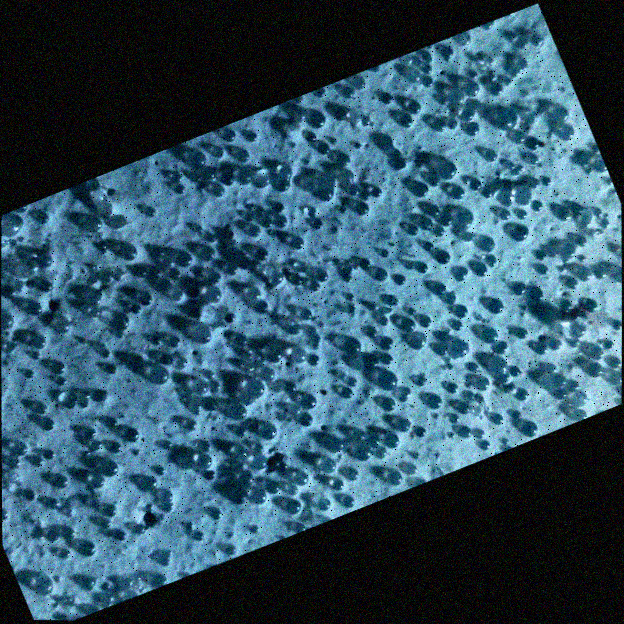GrassBeadSeg: (13, 152, 539, 585), (63, 112, 588, 537), (102, 82, 507, 519), (12, 175, 553, 455), (250, 108, 592, 533), (158, 108, 476, 564), (37, 224, 420, 594), (233, 93, 571, 504), (192, 79, 482, 540), (37, 160, 457, 478), (78, 182, 431, 556), (93, 132, 570, 401), (163, 136, 561, 444), (113, 157, 403, 539), (101, 206, 374, 590), (48, 171, 354, 506), (6, 183, 343, 482), (99, 332, 621, 523), (139, 236, 529, 490), (80, 208, 366, 553), (8, 230, 418, 468), (295, 203, 584, 531), (1, 122, 540, 297), (108, 249, 451, 512), (109, 174, 516, 392), (84, 215, 610, 379), (239, 188, 527, 485), (52, 185, 334, 488), (222, 128, 504, 428), (255, 177, 543, 465), (112, 313, 445, 561), (193, 287, 525, 535), (33, 312, 405, 533), (248, 147, 539, 426), (365, 32, 544, 458), (37, 108, 512, 268), (112, 174, 381, 444), (83, 353, 380, 587), (341, 108, 519, 497), (39, 279, 424, 458), (24, 316, 394, 500), (164, 231, 477, 447), (51, 135, 333, 373), (224, 344, 536, 555), (267, 298, 599, 493), (3, 219, 263, 467), (369, 126, 571, 442), (24, 189, 347, 383), (63, 395, 572, 516), (131, 387, 568, 527), (82, 224, 565, 350), (47, 307, 313, 535), (104, 132, 260, 516), (336, 152, 538, 436), (352, 63, 506, 434), (46, 270, 286, 507), (354, 141, 580, 391), (331, 149, 499, 484), (34, 365, 512, 478), (326, 81, 468, 451), (1, 130, 256, 333), (149, 246, 529, 382), (25, 193, 412, 325), (327, 267, 607, 447), (352, 75, 573, 303), (7, 263, 240, 474), (278, 113, 414, 473), (161, 209, 476, 364), (432, 130, 620, 384), (268, 268, 472, 493), (204, 231, 359, 527), (46, 340, 548, 430), (339, 205, 588, 383), (250, 282, 447, 502), (302, 115, 448, 409), (309, 111, 444, 408), (234, 161, 458, 339), (299, 302, 576, 438), (290, 206, 571, 340), (296, 157, 409, 483), (2, 334, 189, 519), (54, 394, 430, 485), (190, 282, 441, 418), (31, 442, 266, 585), (183, 201, 286, 518), (207, 204, 441, 342), (99, 286, 545, 357), (449, 208, 593, 424), (182, 219, 326, 430), (195, 217, 435, 343), (99, 431, 399, 529), (414, 189, 533, 436), (75, 337, 579, 395), (35, 362, 596, 414), (122, 242, 545, 310), (290, 174, 441, 362), (205, 345, 606, 410), (260, 326, 492, 438), (476, 192, 621, 371), (1, 214, 175, 363), (33, 409, 523, 460), (233, 364, 523, 450), (128, 460, 319, 582), (32, 332, 207, 465), (31, 377, 132, 604), (188, 152, 285, 362), (58, 286, 262, 385), (2, 175, 196, 277), (377, 185, 467, 389), (99, 392, 367, 459), (315, 269, 507, 359), (199, 247, 363, 352), (385, 190, 471, 389), (204, 286, 349, 400), (336, 327, 454, 460), (253, 172, 465, 240), (34, 288, 160, 395), (338, 169, 604, 218), (89, 355, 186, 488), (452, 198, 543, 329), (409, 35, 528, 133), (197, 317, 313, 414), (85, 389, 259, 453), (226, 274, 373, 347), (147, 143, 294, 214), (118, 277, 236, 365), (108, 440, 419, 473), (288, 293, 537, 334), (410, 85, 567, 148), (99, 421, 274, 476), (227, 130, 316, 238), (196, 289, 247, 467), (259, 214, 291, 487), (353, 307, 418, 441), (355, 201, 416, 332), (334, 106, 435, 185), (202, 167, 541, 189), (537, 246, 608, 348), (262, 325, 390, 379), (419, 291, 474, 416), (551, 146, 613, 255), (415, 329, 489, 418), (30, 333, 428, 349), (361, 178, 492, 224), (508, 105, 594, 175), (386, 45, 490, 102), (345, 292, 542, 322), (29, 342, 173, 383), (360, 185, 427, 271), (48, 495, 172, 541), (294, 85, 392, 140), (345, 183, 433, 244), (41, 416, 411, 430), (573, 207, 599, 405), (477, 224, 530, 312), (422, 244, 528, 288), (559, 218, 621, 289), (417, 223, 449, 355), (320, 443, 493, 467), (291, 371, 397, 409), (141, 475, 345, 491), (457, 30, 519, 80), (311, 259, 361, 318), (301, 413, 331, 509), (484, 256, 509, 353), (67, 574, 145, 602), (210, 246, 270, 282), (282, 402, 314, 467), (44, 427, 110, 458), (152, 464, 168, 586), (237, 373, 269, 434), (192, 377, 299, 393), (343, 374, 411, 399), (30, 266, 148, 280), (479, 298, 501, 341), (187, 150, 208, 169), (370, 121, 374, 123), (289, 332, 291, 334)
